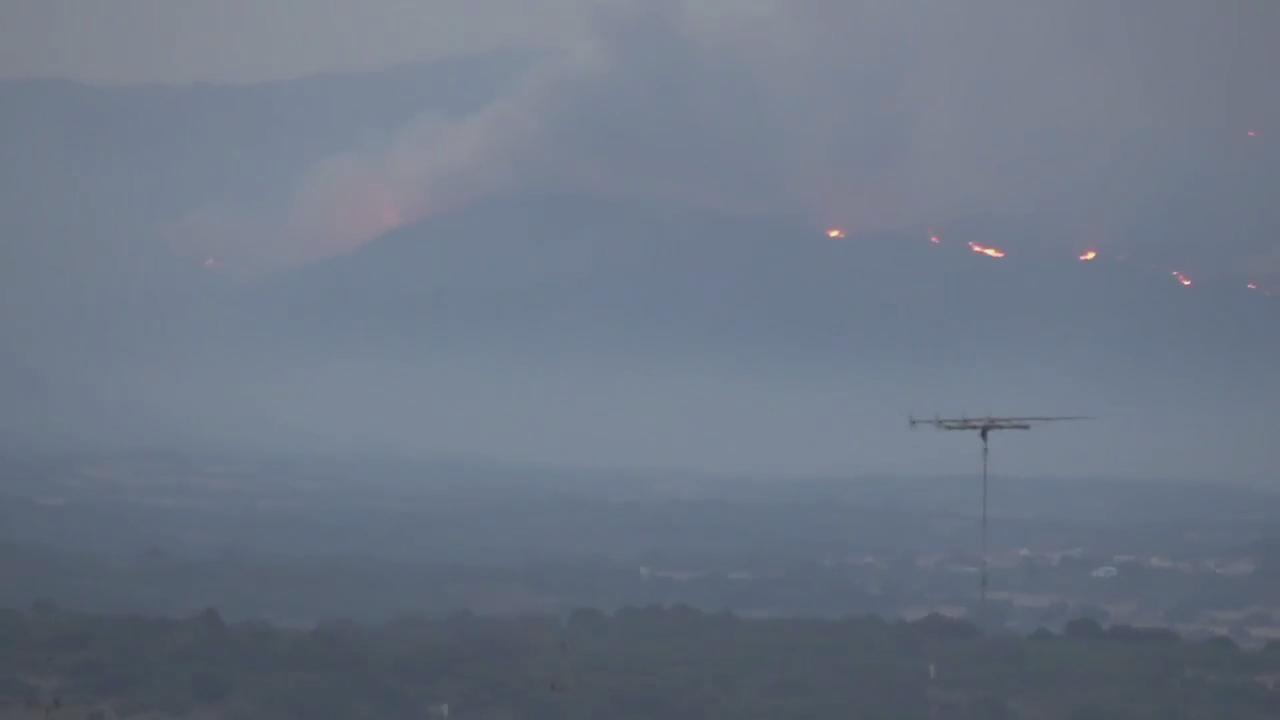fire: (968, 238, 1005, 260), (1172, 270, 1194, 288), (1076, 246, 1097, 264), (823, 223, 842, 236)
